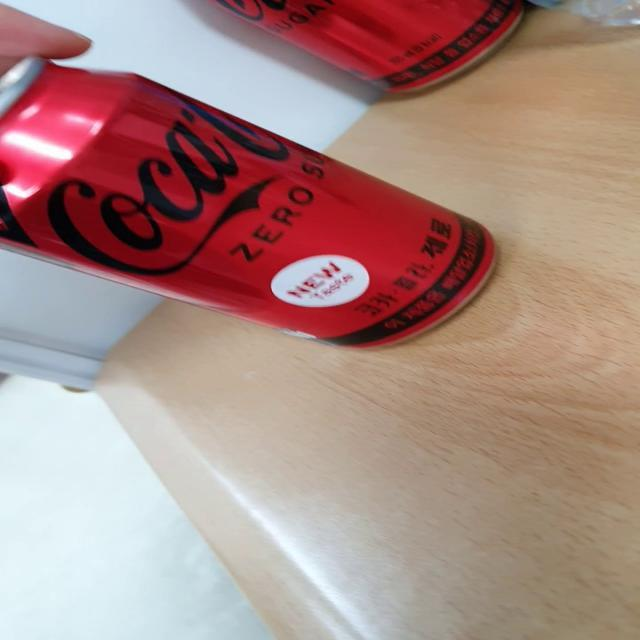coca-cola: (0, 51, 508, 381)
